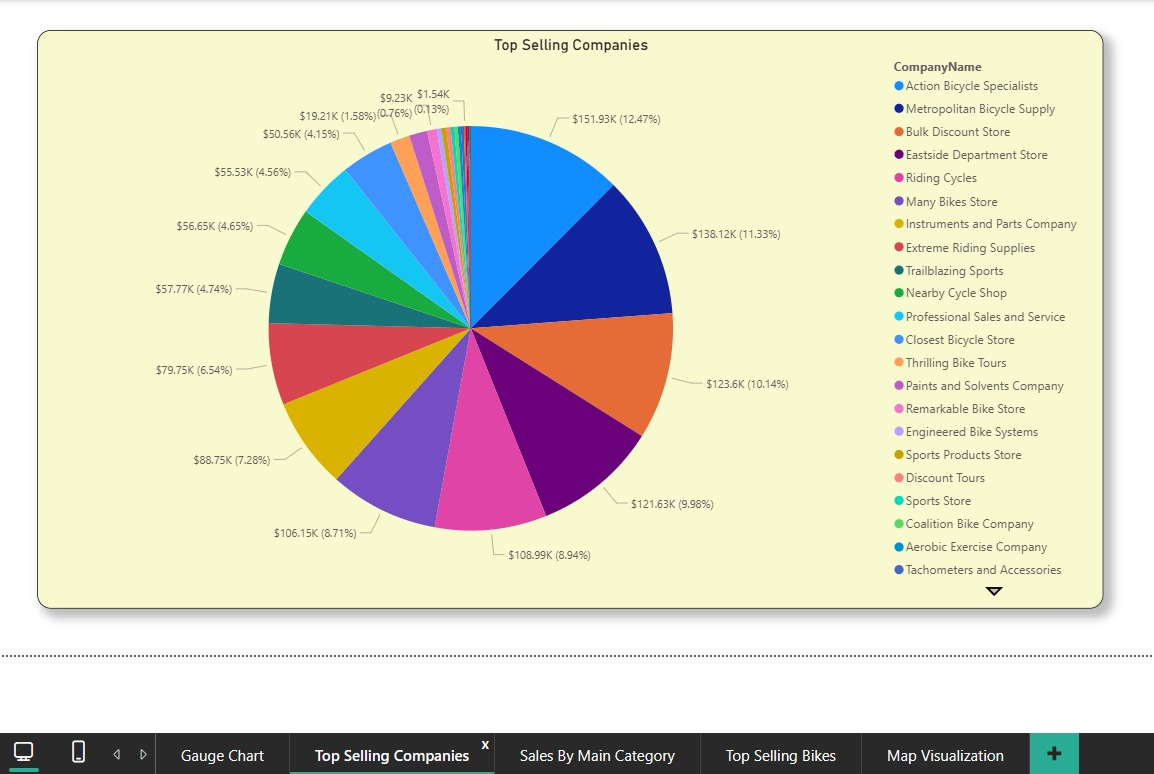

The page's visual inventory and layout, read from the dashboard file:
{"tool":"powerbi","page":{"name":"Top Selling Companies","canvas":[1280,720],"ordinal":1},"visuals":[{"type":"pieChart","title":"Top Selling Companies","fields":{"Category":["Customers.CompanyName"],"Y":["Sum(Sales.Line Total)"]},"box":[45.3,32.9,1170.5,635.3],"z":0}]}

Visuals, with their boxes on the page's 1280x720 design canvas (x1, y1, x2, y2). These are canvas units, not pixel positions in the 1154x774 screenshot, which may show the page scaled, cropped or inside an application window:
"Top Selling Companies" pieChart: box=[45, 33, 1216, 668]
